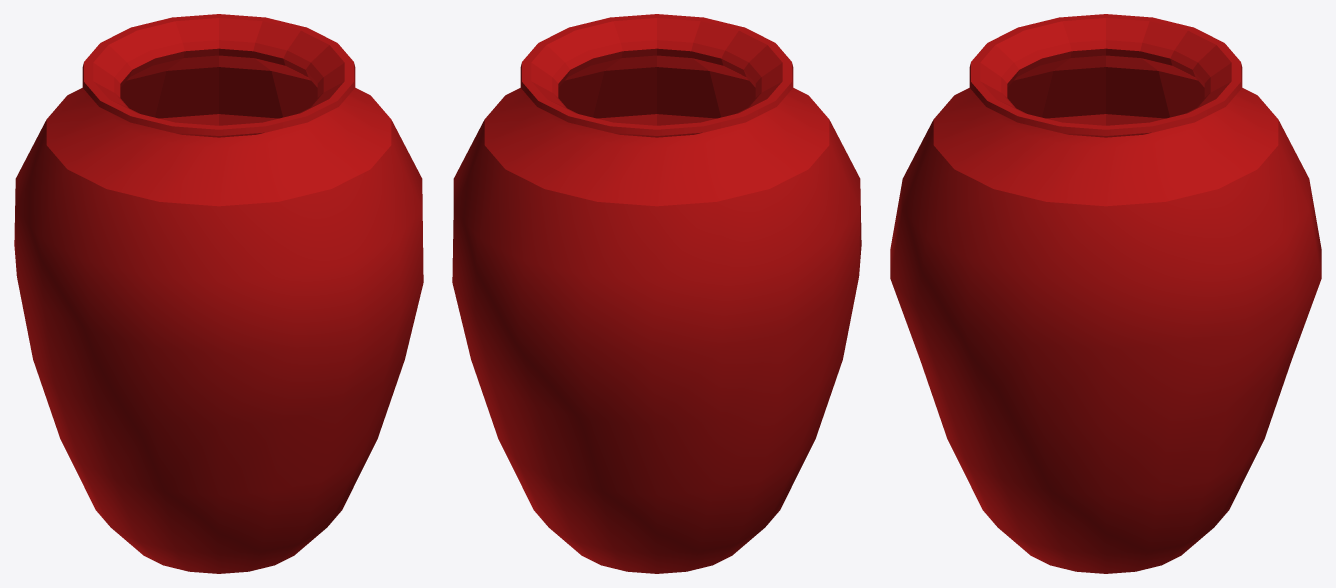
Rendered from Vase 1.FBX.
3 renders of one model, left to right at view 1: azimuth 30°, elevation 25°; view 2: azimuth 150°, elevation 25°; view 3: azimuth 270°, elevation 25°, orthographic.
Visible parts, largest first — view 1: Vase1; view 2: Vase1; view 3: Vase1.
Part boxes in pixels (box(x1,y1,x2,y2)): Vase1: box(14, 14, 423, 573); Vase1: box(452, 14, 861, 573); Vase1: box(890, 14, 1321, 573).
Size of the model in its own units: 170 by 211 by 177.
